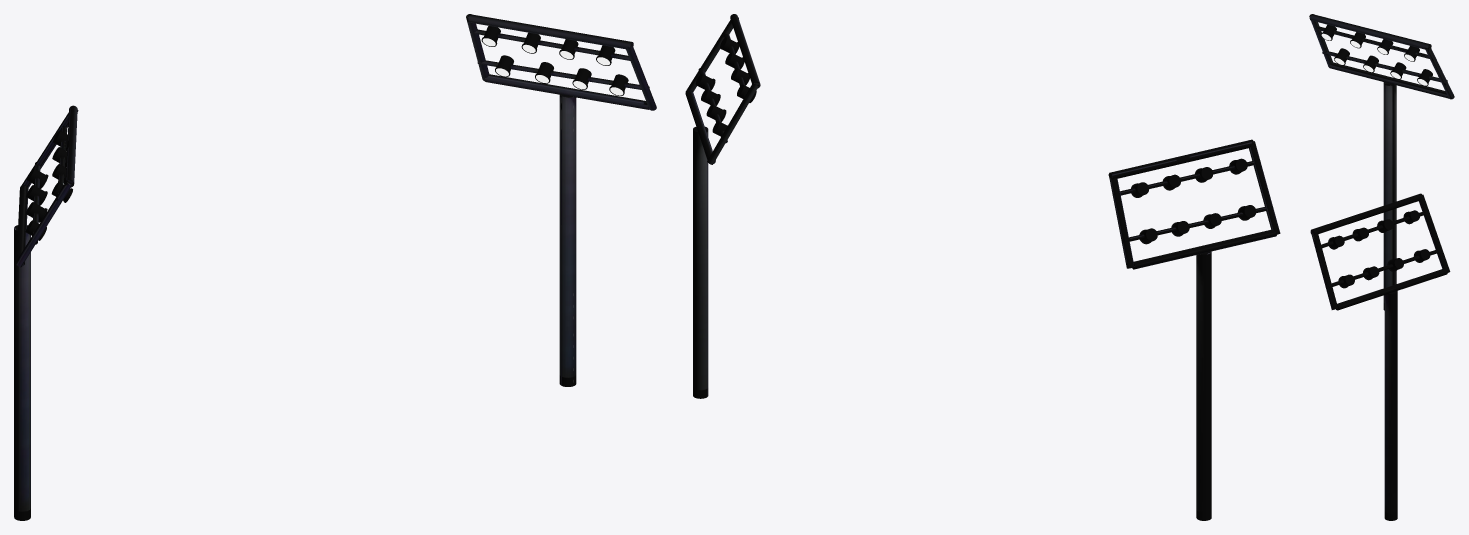
File: Ground_Spotlights-transformed.glb
3 views of the same model, side by side, from view 1: azimuth 30°, elevation 25°; view 2: azimuth 150°, elevation 25°; view 3: azimuth 270°, elevation 25° (orthographic). The views are drawn at different scales.
Parts seen in each view (by area): view 1: Cylinder.075, Cylinder.048, Cylinder.077, Cylinder.076, Cylinder.052, Cylinder.050; view 2: Cylinder.048, Cylinder.075, Cylinder.050, Cylinder.049, Cylinder.051, Cylinder.052, Cylinder.079; view 3: Cylinder.075, Cylinder.048, Cylinder.050, Cylinder.049, Cylinder.076, Cylinder.077, Cylinder.078, Cylinder.079, Cylinder.051, Cylinder.054, Cylinder.053, Cylinder.081 (+2 smaller).
Part boxes in pixels (x1,y1,x2,y2): Cylinder.075: [559, 94, 576, 386]; Cylinder.048: [14, 225, 30, 520]; Cylinder.077: [467, 14, 633, 49]; Cylinder.076: [484, 74, 649, 109]; Cylinder.052: [15, 180, 72, 267]; Cylinder.050: [65, 105, 77, 187]; Cylinder.048: [1196, 251, 1211, 520]; Cylinder.075: [693, 126, 708, 398]; Cylinder.050: [1108, 139, 1254, 179]; Cylinder.049: [1132, 229, 1276, 269]; Cylinder.051: [1109, 174, 1134, 268]; Cylinder.052: [1249, 141, 1280, 234]; Cylinder.079: [707, 81, 759, 164]; Cylinder.075: [1384, 290, 1397, 520]; Cylinder.048: [1383, 82, 1396, 310]; Cylinder.050: [1309, 14, 1431, 50]; Cylinder.049: [1329, 62, 1448, 98]; Cylinder.076: [1336, 269, 1447, 310]; Cylinder.077: [1310, 193, 1423, 234]; Cylinder.078: [1310, 230, 1337, 309]; Cylinder.079: [1419, 194, 1450, 272]; Cylinder.051: [1425, 45, 1454, 99]; Cylinder.054: [1322, 51, 1447, 82]; Cylinder.053: [1316, 26, 1429, 58]; Cylinder.081: [1328, 250, 1437, 287].
Bounding box in the file's own units: 2565 × 1429 × 640.
Materials: 3 (1 with a texture image).
